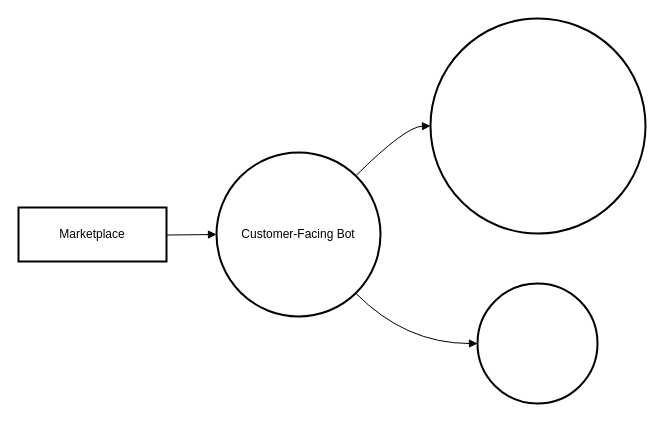
The diagram is 663 pixels wide and 421 high, and some of its shapes have lost their labels. The box of each missing label's shape, as (x1, y1, x2, y2) in pixels:
Order Tracking: (476, 282, 598, 404)
Product Discovery & Recommendations: (429, 17, 646, 234)
